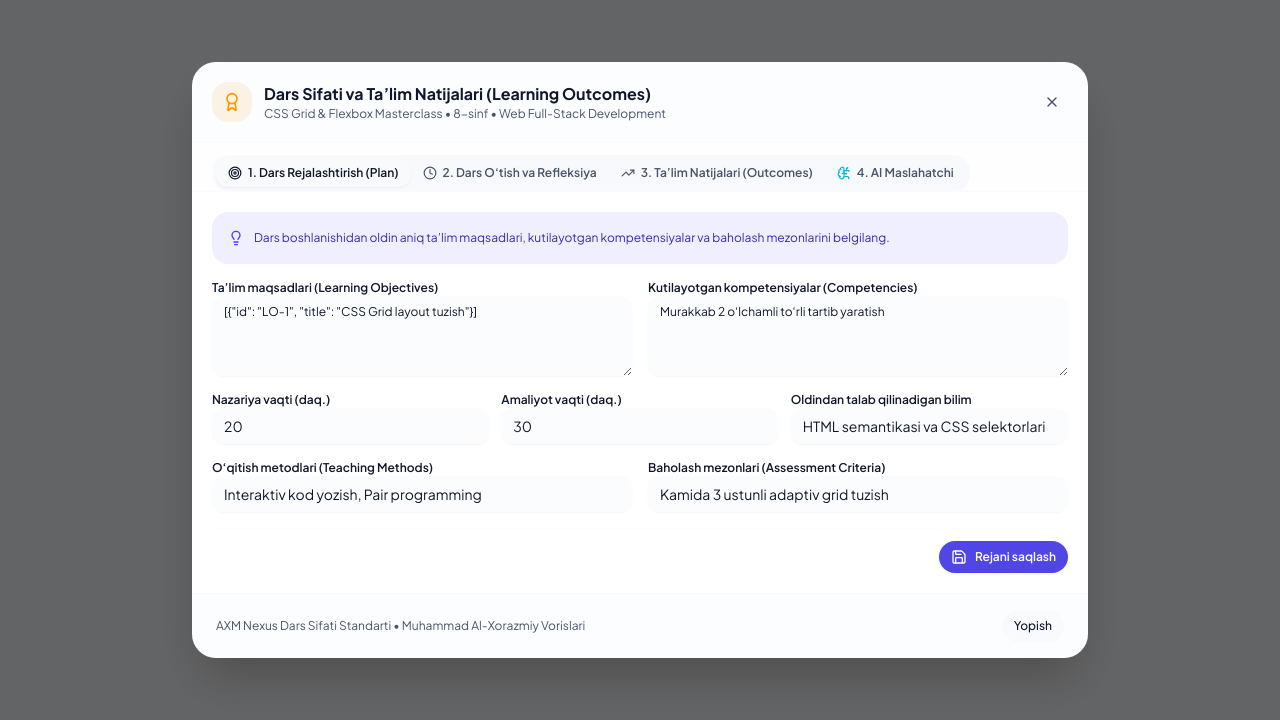
Test: Section 25: LessonQualityModal Component Tests › allows switching to Learning Outcomes tab and shows evidence tracking
Expected: the text "CSS Grid & Flexbox Masterclass" is shown, [264,106,443,121]
Click the button "3. Ta’lim Natijalari (Outcomes)": (717, 173) [609,159,825,187]
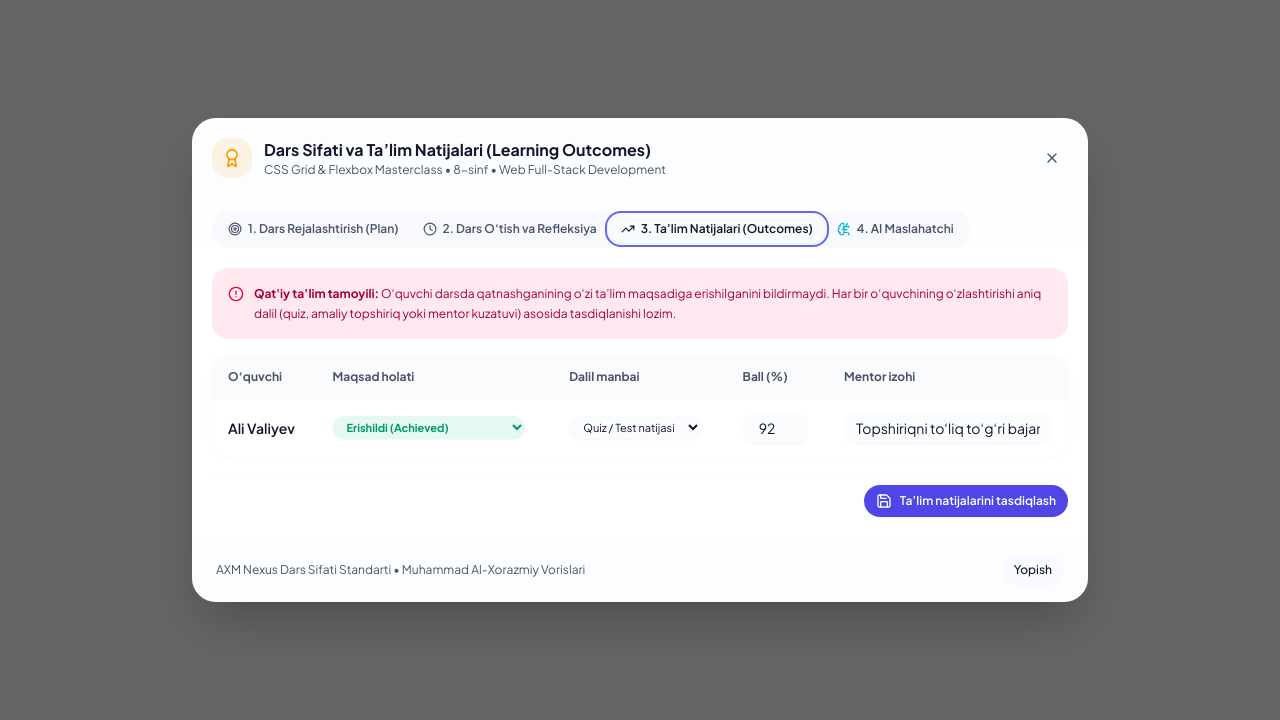
Result: the text "Qat'iy ta’lim tamoyili:" is shown at [254,286,379,301]
Result: the column heading "Dalil manbai" is shown at [553,355,727,399]
